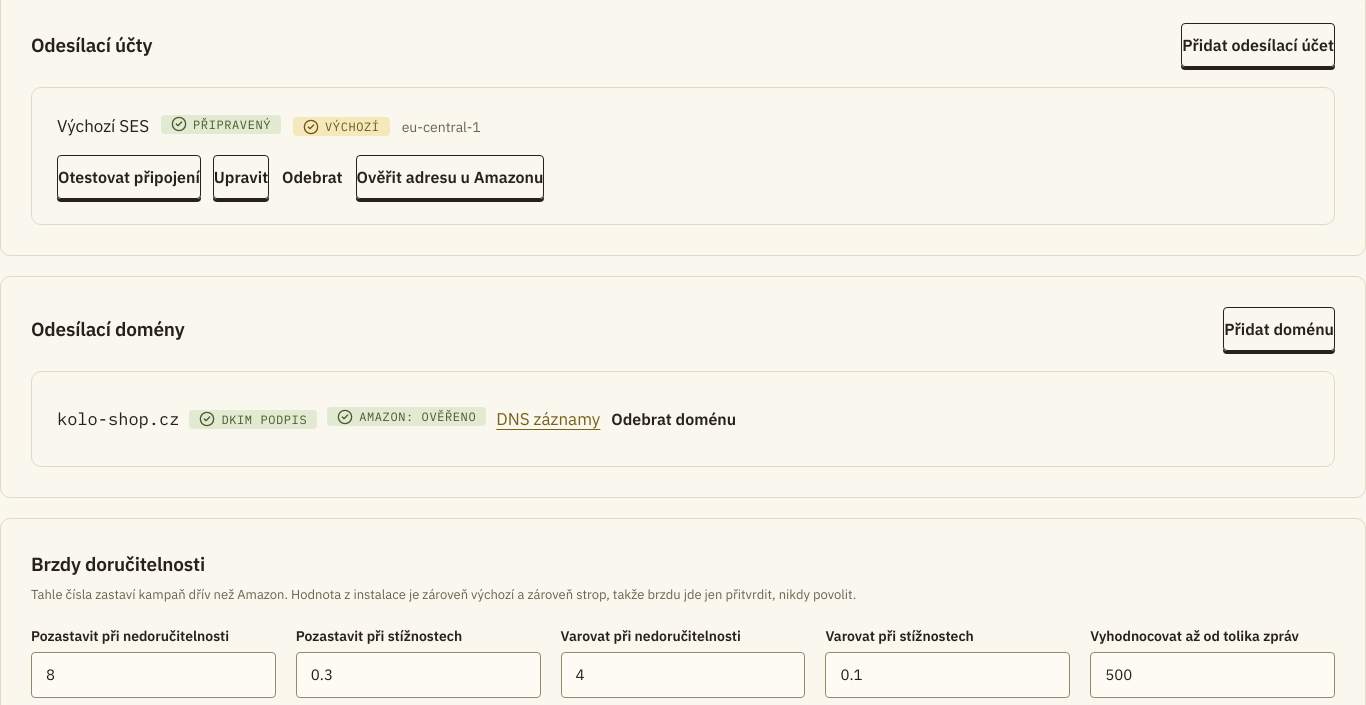
Test: odebrání odesílací domény ze seznamu › u domény je tlačítko Odebrat doménu a obrazovka obsluhu opravdu předává
Click the button with test id "delete-domain-dom-1" at (674, 419), box [610,397,737,441]
(page scrolled)
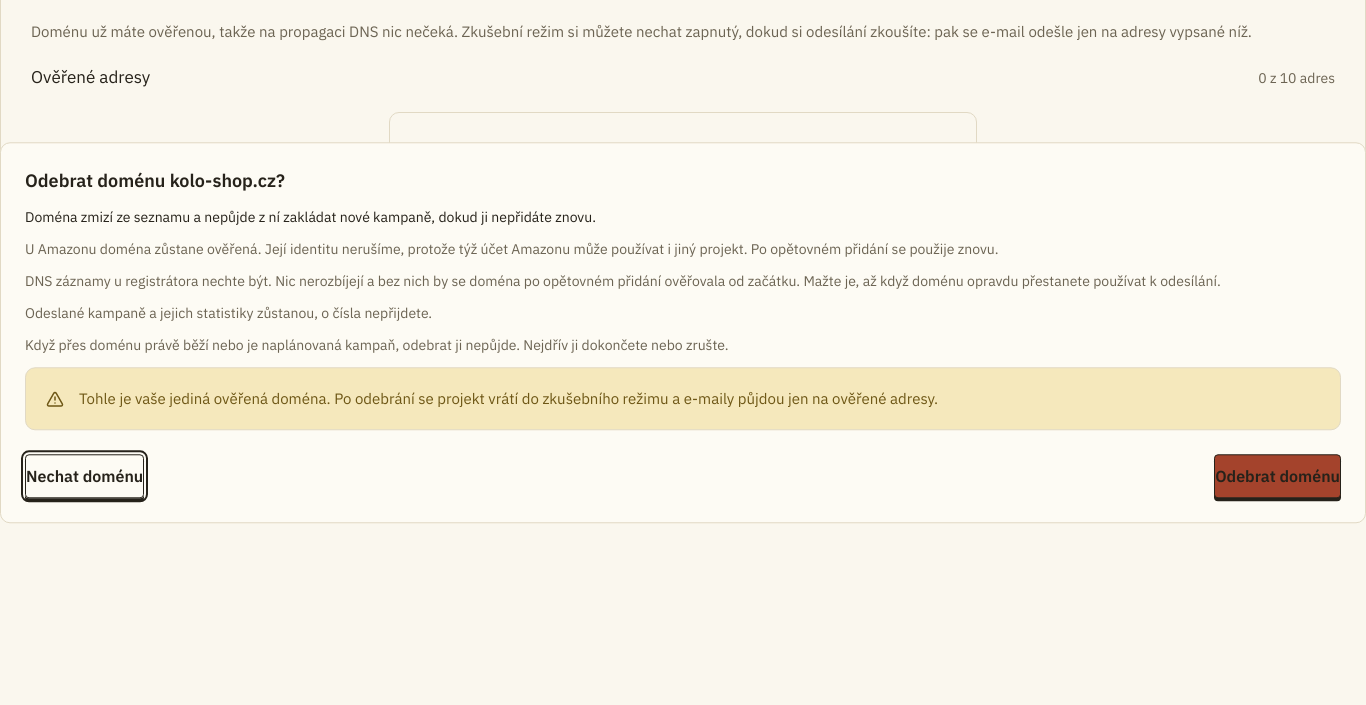
Expected: the heading "Odebrat doménu kolo-shop.cz?" is shown, [25,169,285,192]
